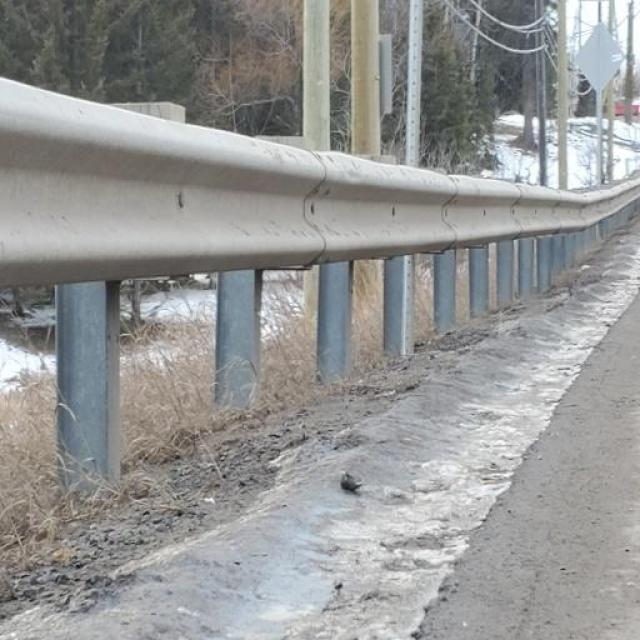Guard rail: (0, 78, 640, 512)
